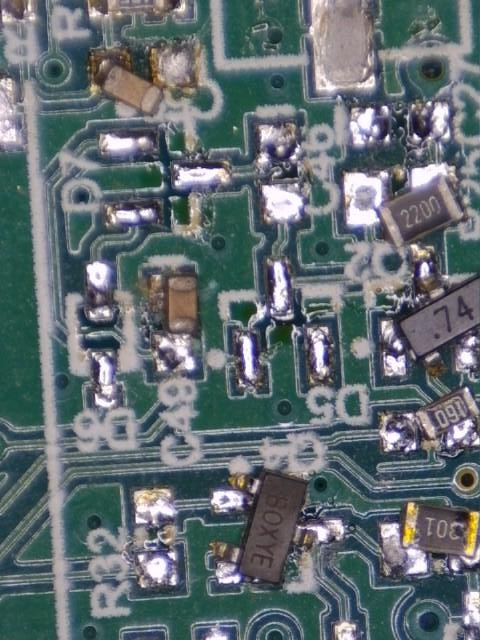pcb_defect: (209, 468, 345, 585), (381, 247, 480, 379), (342, 165, 466, 250), (91, 44, 197, 116), (379, 502, 480, 576), (381, 386, 480, 451), (148, 271, 198, 378)
